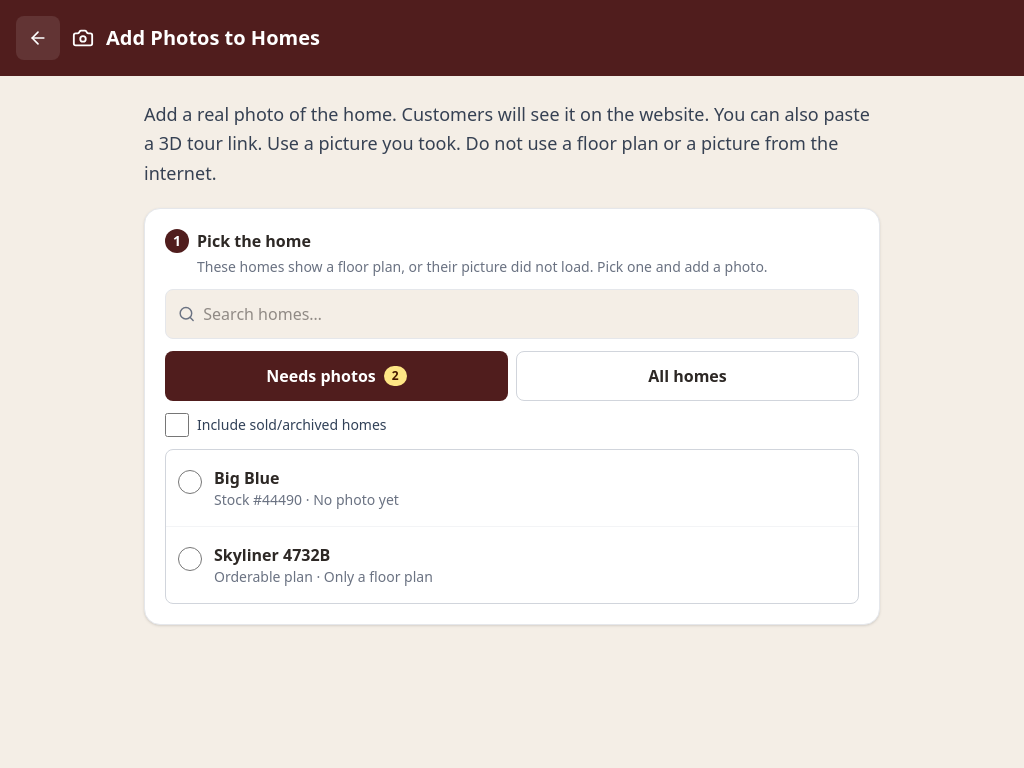
it: Photo Manager home picker › shows sold homes only after staff tick Include sold/archived
Expected: the text "Big Blue" is shown, [214,467,280,489]
Click the checkbox labelled "Include sold/archived homes".
click(177, 425)  # box [165,413,189,437]
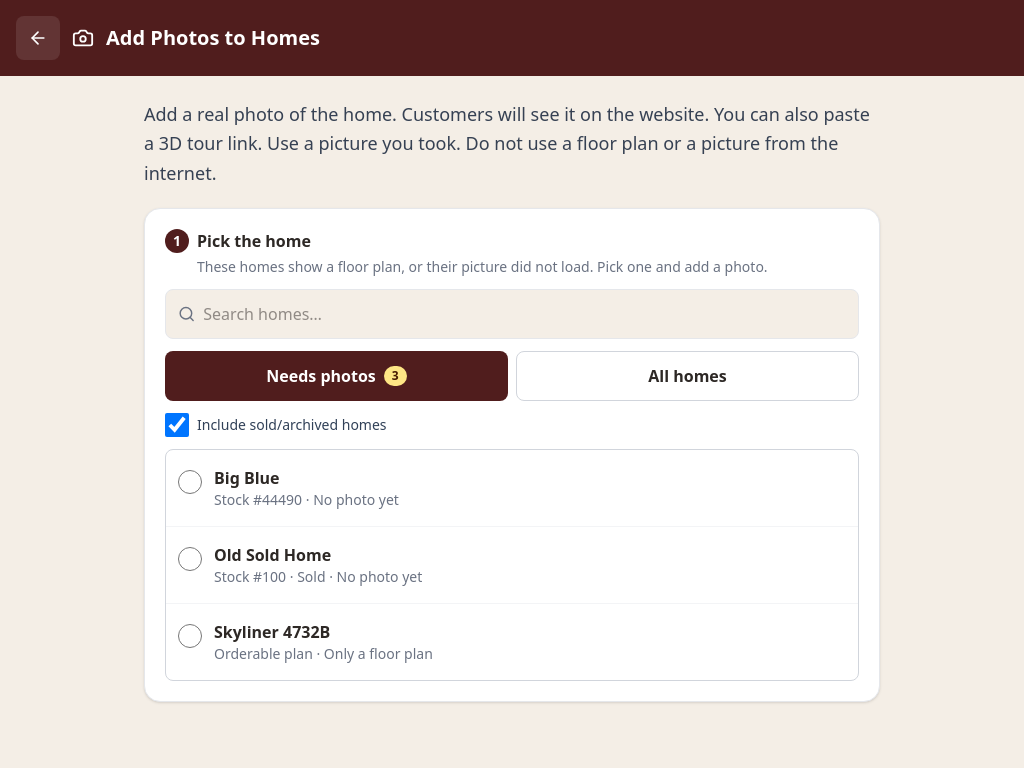
Result: the text "Old Sold Home" is shown at [214,544,331,566]
Result: the text "Stock #100 · Sold · No photo yet" is shown at [214,567,422,586]
